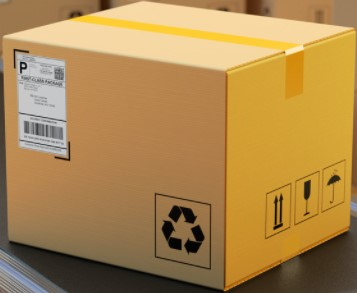stock: (2, 1, 357, 292)
